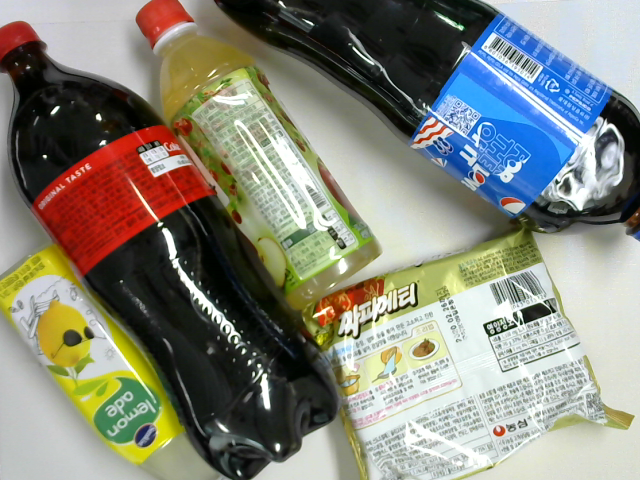Coca_Cola_1.5L: (1, 20, 339, 480)
Morning_Apple_500ml: (132, 1, 384, 312)
Olive_Chapaghetti: (300, 229, 635, 480)
Pepsi_Cola_1.5L: (212, 1, 640, 243)
Sunkist_Lemonaid_Pet: (1, 246, 182, 480)
